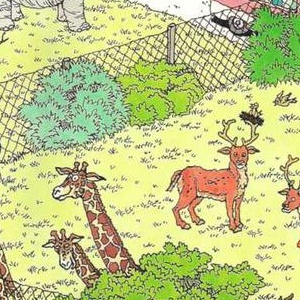Wenda: (139, 131, 161, 169)
